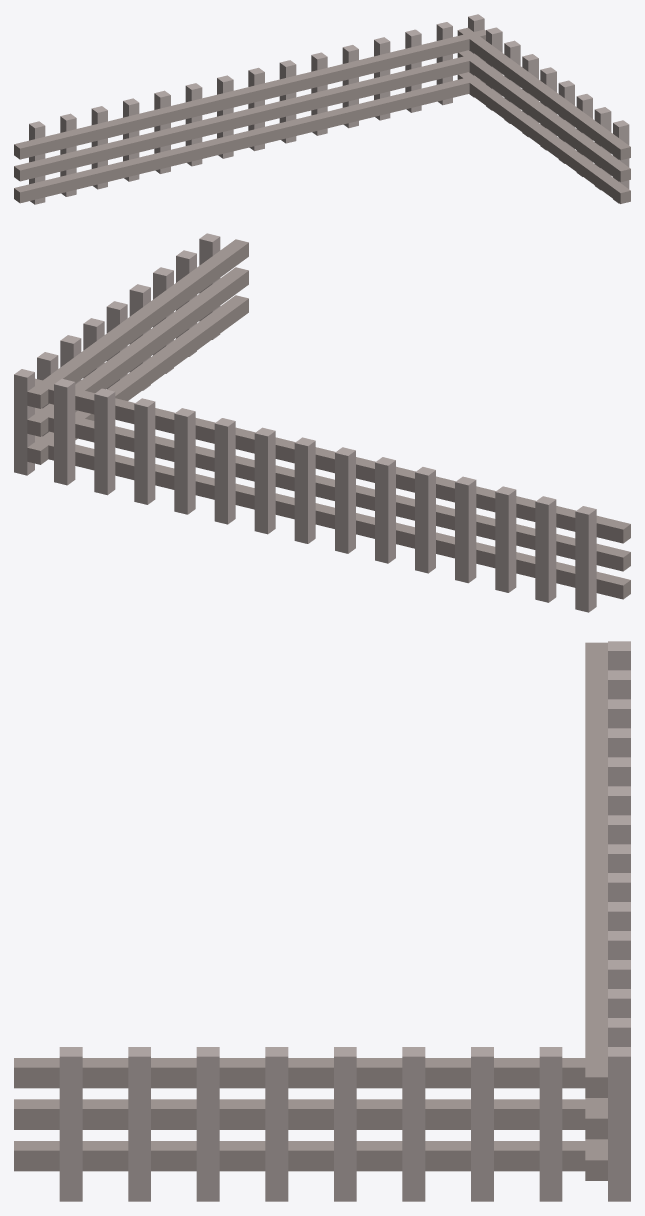
File: granjafinal_valla1.obj
3 renders of one model, top to bottom at view 1: azimuth 30°, elevation 25°; view 2: azimuth 150°, elevation 25°; view 3: azimuth 270°, elevation 25°, orthographic. The views are drawn at different scales.
Bounding box in the file's own units: 4.5 × 0.7 × 2.7.
1 material, 1 textured.
